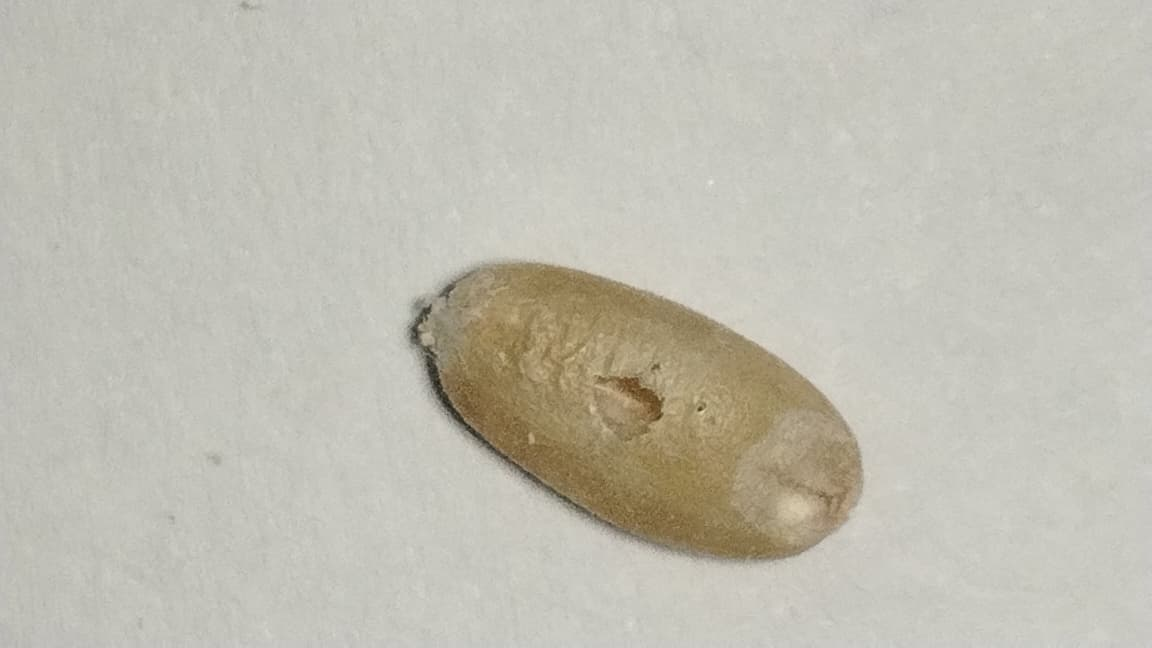damage: (422, 261, 861, 557)
insectdamage: (547, 327, 741, 462)
